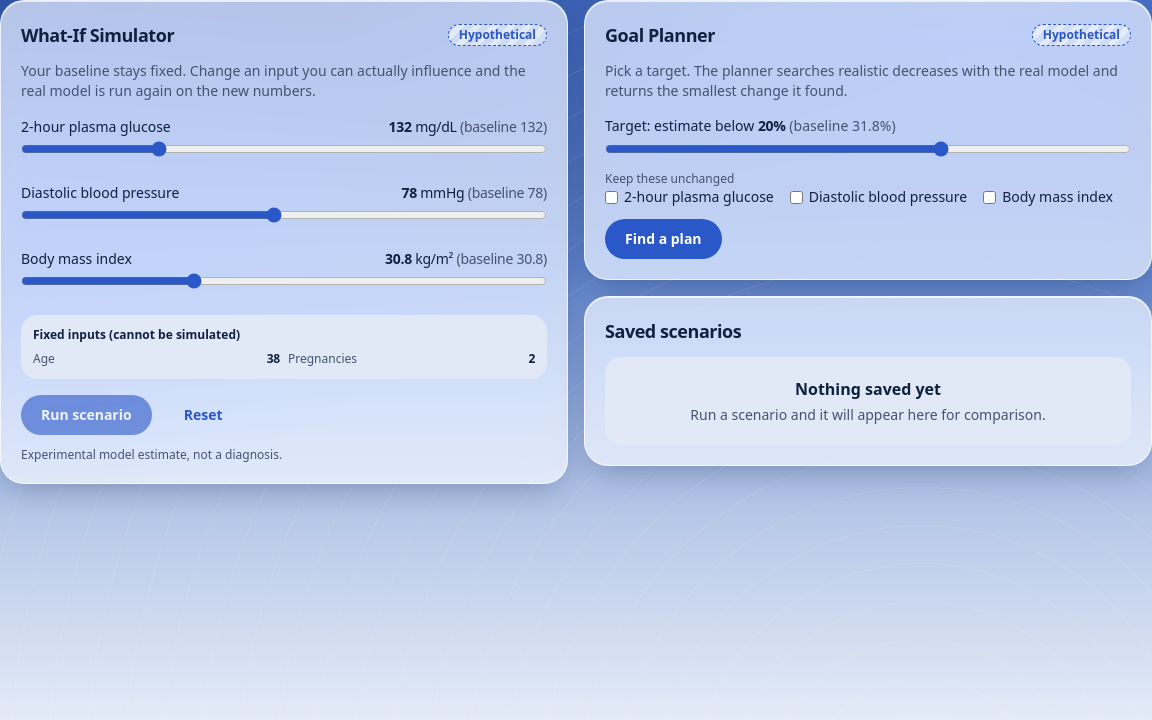
Scenario: SimulatorPage › sends only the changed inputs, labels the result hypothetical and never touches the baseline
Check: the heading "What-If Simulator" is shown, box left=21, top=21, right=174, bottom=49
Set the slider with id "sl-bmi" to "27" at [161, 281], box left=21, top=273, right=547, bottom=289
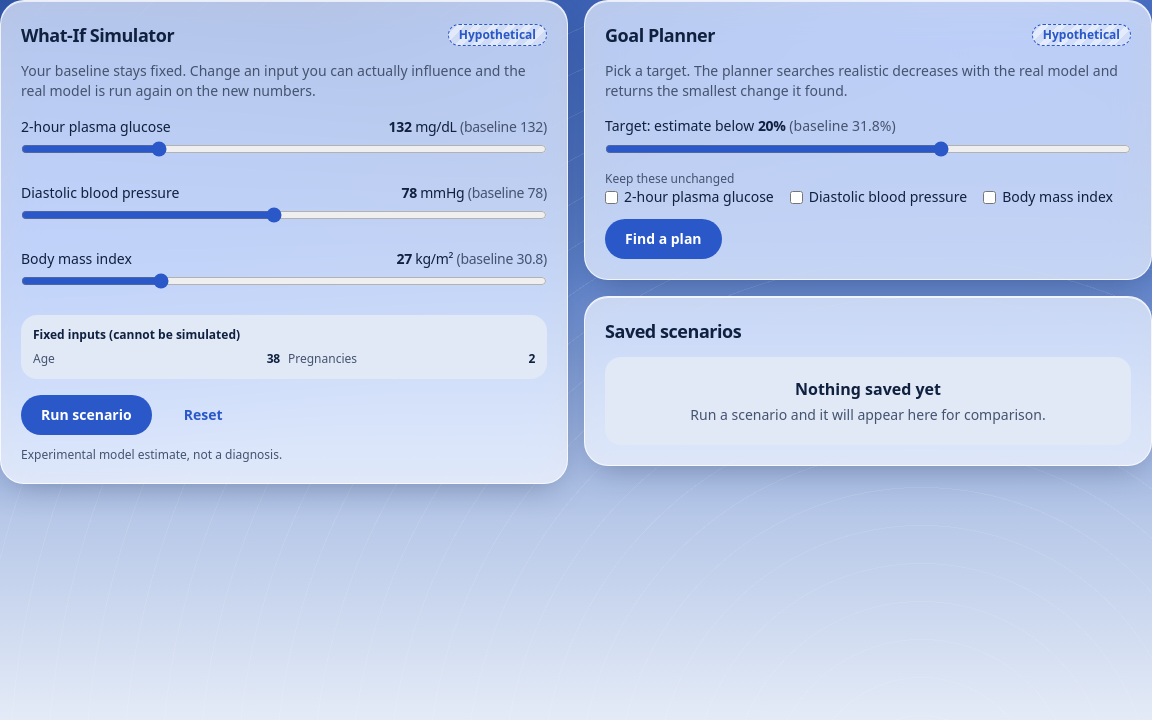
Check: the button "Run scenario" is enabled
Click the button "Run scenario" at [86, 415], box left=21, top=395, right=152, bottom=435
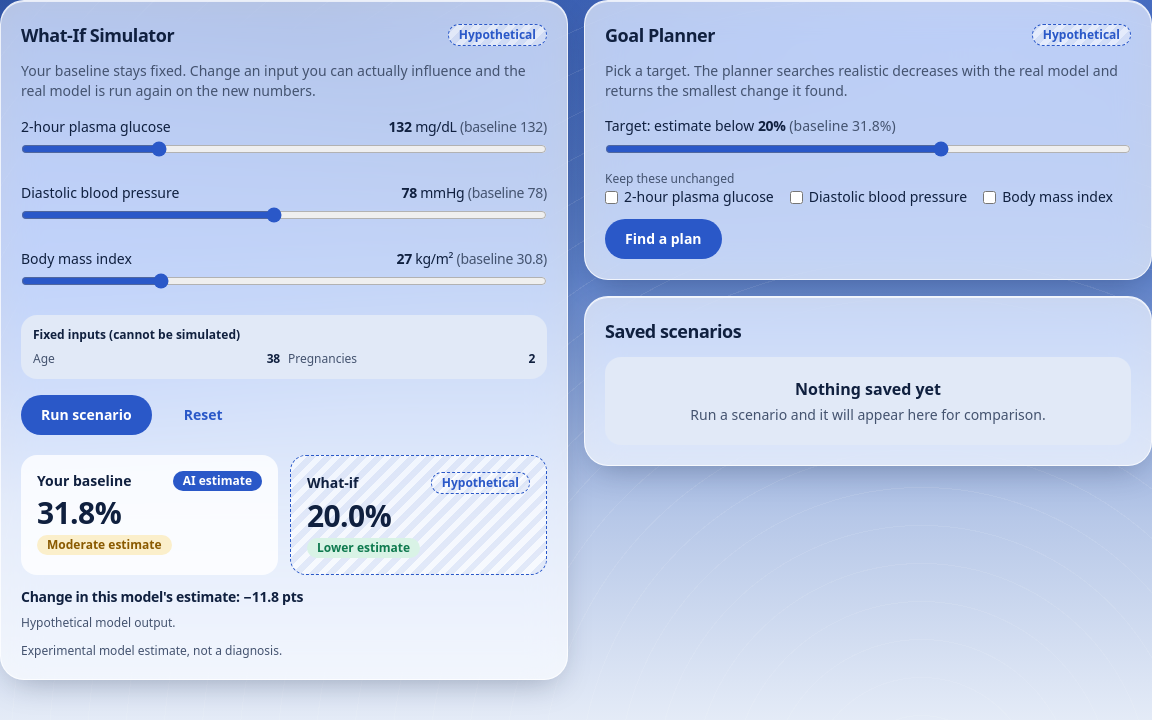
Check: the text "Hypothetical" in the row of "What-If Simulator" is shown, box left=459, top=26, right=536, bottom=43
Check: the text "Change in this model's estimate: −11.8 pts" is shown, box left=21, top=587, right=303, bottom=606
